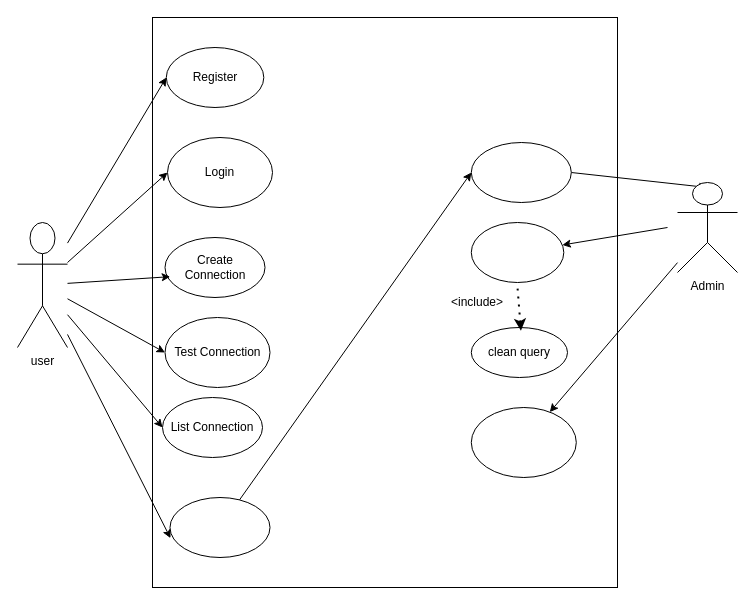
The diagram is 755 pixels wide and 605 high, and some of its shapes have lost their labels. The centre of each missing label's shape, as x and y in pixels:
Execute Query: the point at 523,442
Generate Query: the point at 517,252
Submit Query: the point at 219,527
summarize result: the point at 520,172
